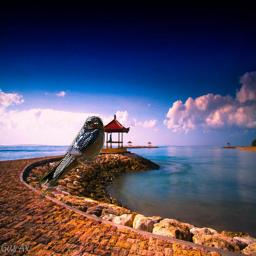Swallow: (37, 116, 105, 202)
